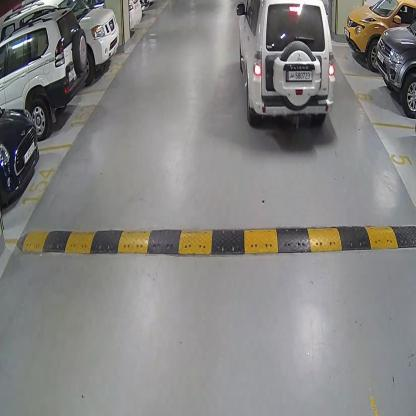np: (287, 70, 312, 81)
